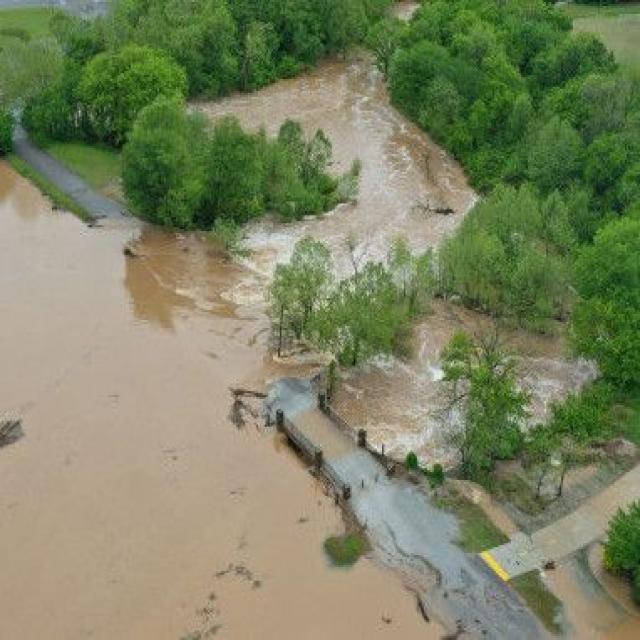flooded_areas: (28, 8, 590, 638)
